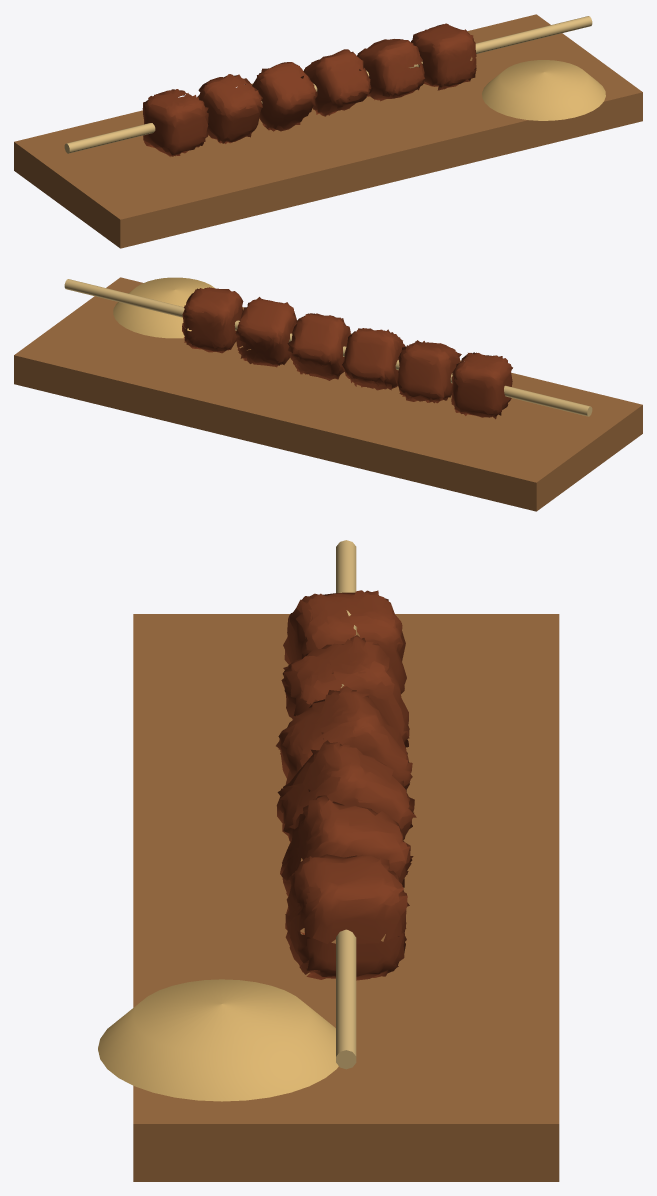
The model's file is espeto-carne.glb.
3 renders of one model, top to bottom at view 1: azimuth 30°, elevation 25°; view 2: azimuth 150°, elevation 25°; view 3: azimuth 270°, elevation 25°, orthographic. The views are drawn at different scales.
Parts seen in each view (by area): view 1: espeto-carne; view 2: espeto-carne; view 3: espeto-carne.
Part boxes in pixels (left/top/right/bottom): espeto-carne: left=14, top=14, right=642, bottom=248; espeto-carne: left=14, top=277, right=642, bottom=511; espeto-carne: left=98, top=540, right=559, bottom=1181.
Size of the model in its own units: 0.34 by 0.0574 by 0.13.
